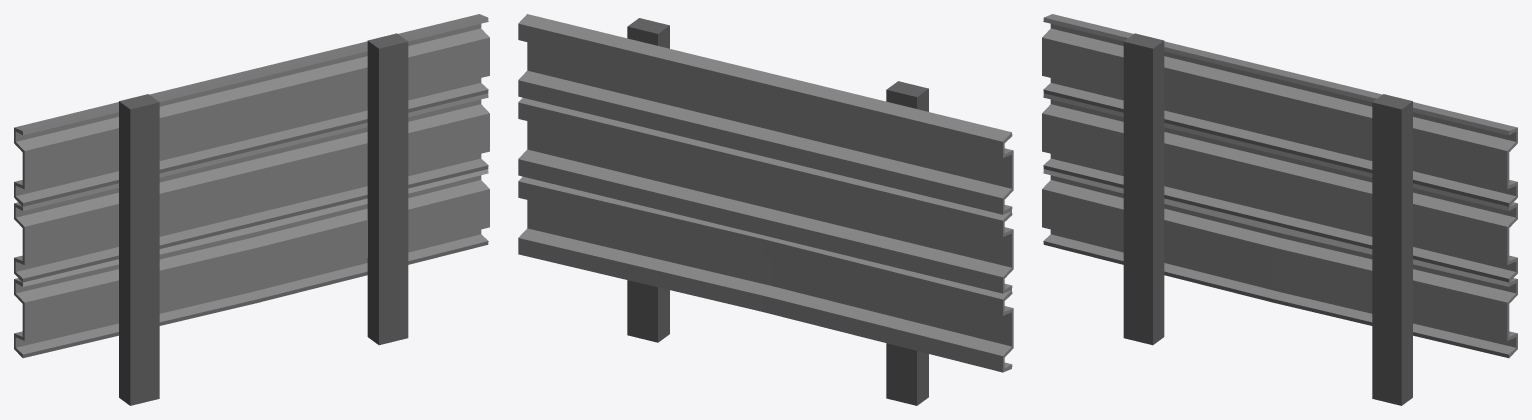
Rendered from Bort.fbx.
3 renders of one model, left to right at view 1: azimuth 30°, elevation 25°; view 2: azimuth 150°, elevation 25°; view 3: azimuth 330°, elevation 25°, orthographic. The views are drawn at different scales.
Parts seen in each view (by area): view 1: barriersBigMiddle.002; view 2: barriersBigMiddle.002; view 3: barriersBigMiddle.002.
Part boxes in pixels (box(x1,y1,x2,y2)): barriersBigMiddle.002: box(14, 14, 489, 405); barriersBigMiddle.002: box(518, 14, 1013, 405); barriersBigMiddle.002: box(1042, 14, 1517, 405).
Size of the model in its own units: 296 by 180 by 24.87.
1 material, 1 textured.
